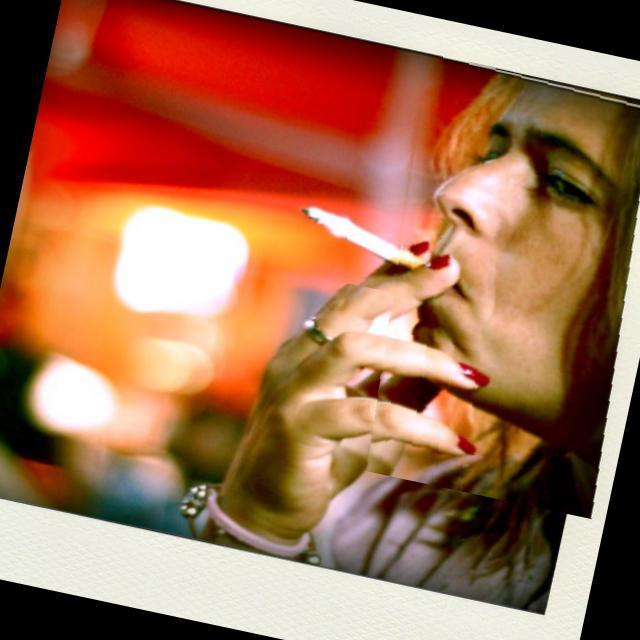cigarette: (266, 170, 461, 302)
